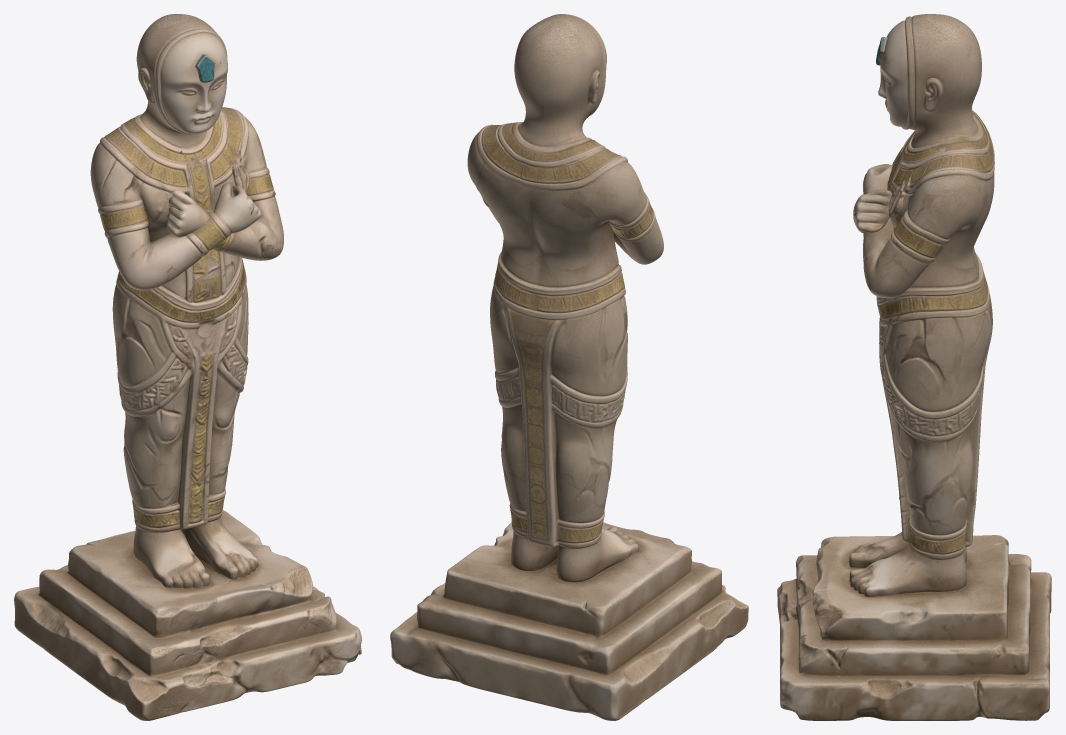
The model's file is Idole.glb.
The picture shows the model from 3 angles, left to right: view 1: azimuth 30°, elevation 25°; view 2: azimuth 150°, elevation 25°; view 3: azimuth 270°, elevation 25°; orthographic projection. The views are drawn at different scales.
Bounding box in the file's own units: 0.7234 × 1.9 × 0.7327.
Materials: 1 (1 with a texture image).
